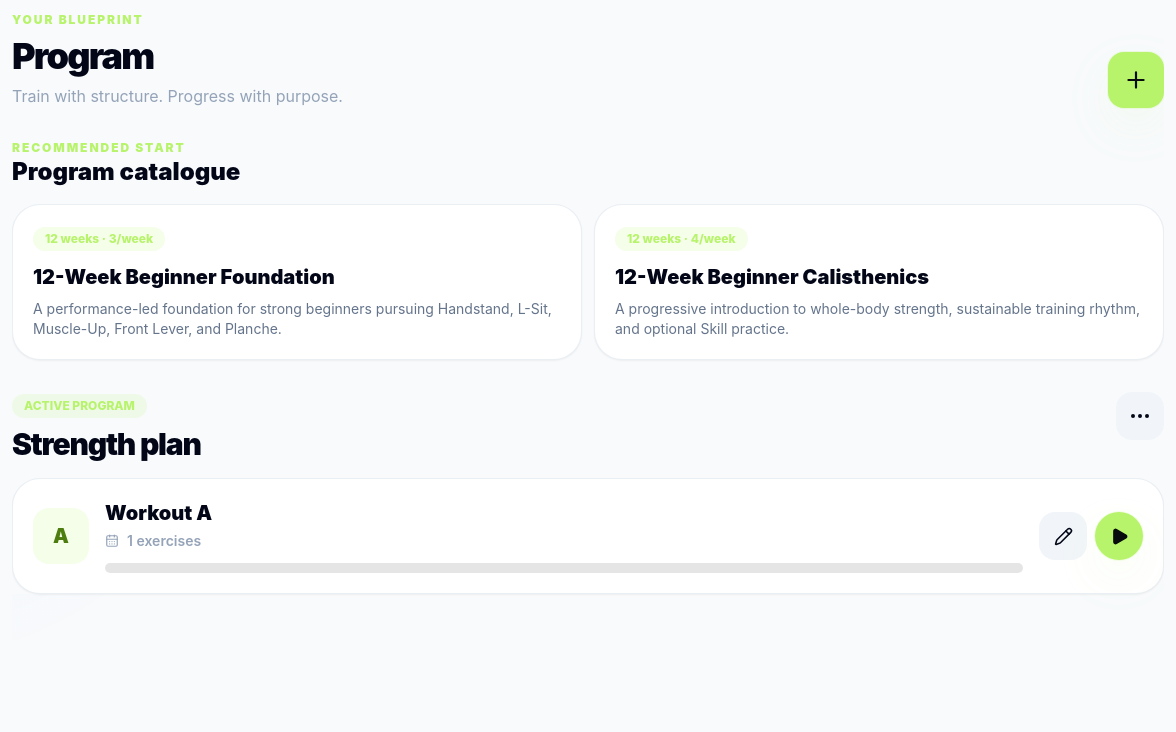
program management actions › keeps the program three-dot menu available beside workout-level actions
Check: the button named "Edit workout: Workout A" is shown, box [1039,512,1087,560]
Click the button named "Program actions". click: (1140, 416)
box: [1116,392,1164,440]
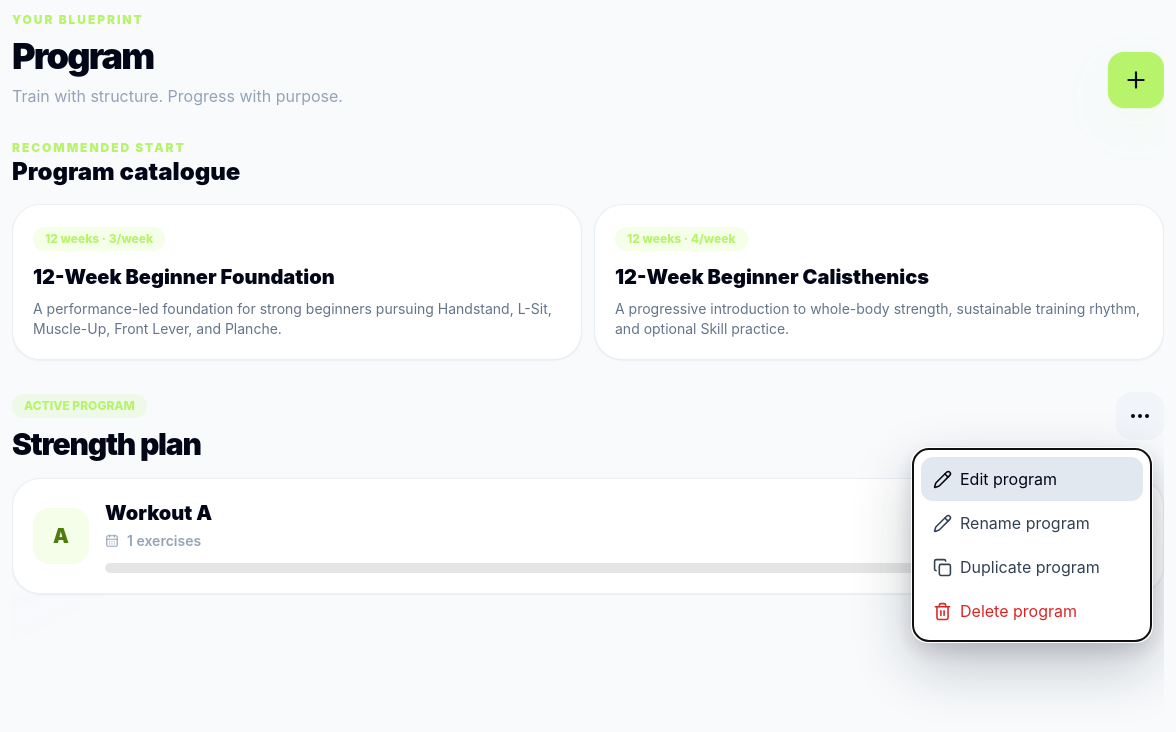
Check: the menu item "Rename program" is shown, box [921,501,1143,545]
